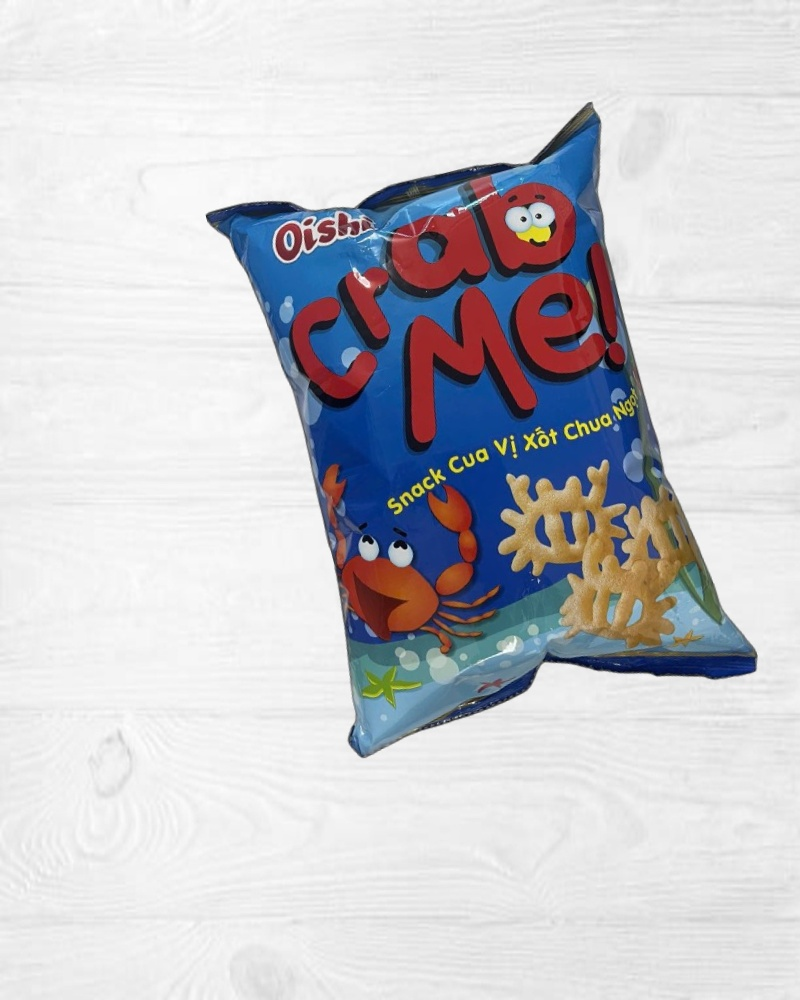Snack chay: (204, 98, 762, 780)
